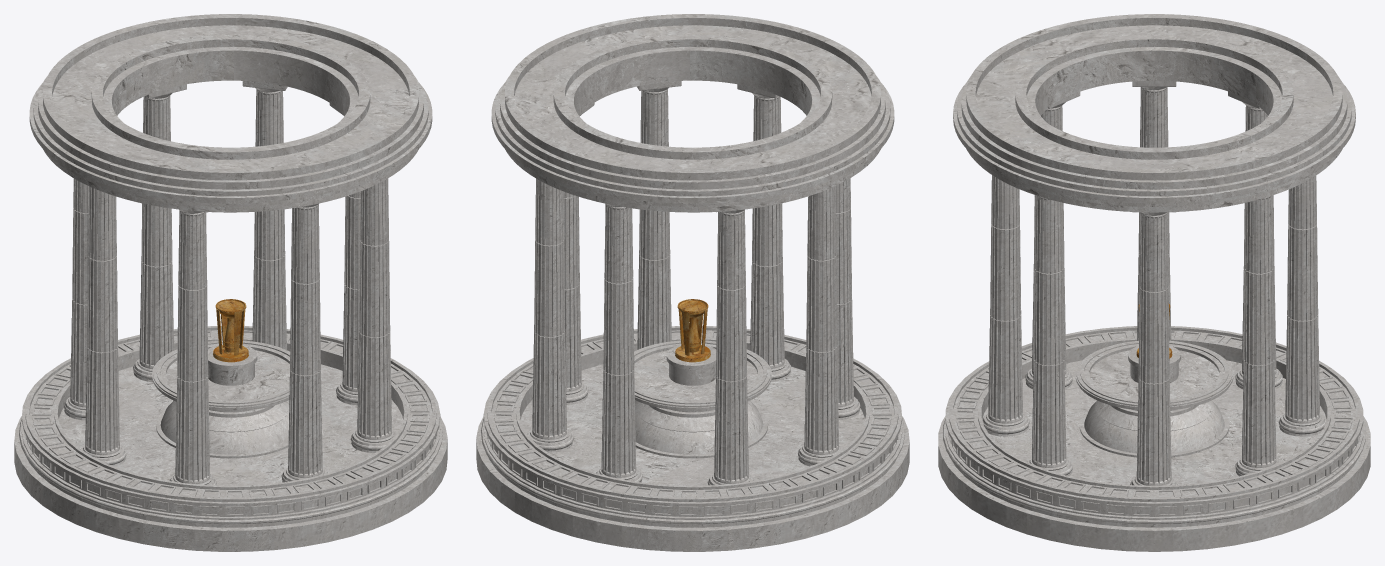
The model's file is fbxOpen.fbx.
The picture shows the model from 3 angles, left to right: view 1: azimuth 30°, elevation 25°; view 2: azimuth 150°, elevation 25°; view 3: azimuth 270°, elevation 25°; orthographic projection.
Parts seen in each view (by area): view 1: temple, torch51; view 2: temple, torch51; view 3: temple, torch51.
Part boxes in pixels (<box>): temple: <box>14,14,447,551</box>; torch51: <box>208,299,257,385</box>; temple: <box>476,14,909,551</box>; torch51: <box>666,299,716,385</box>; temple: <box>938,14,1370,551</box>; torch51: <box>1128,303,1180,382</box>.
Bounding box in the file's own units: 5.43 × 5.08 × 5.42.
2 materials, 2 textured.
